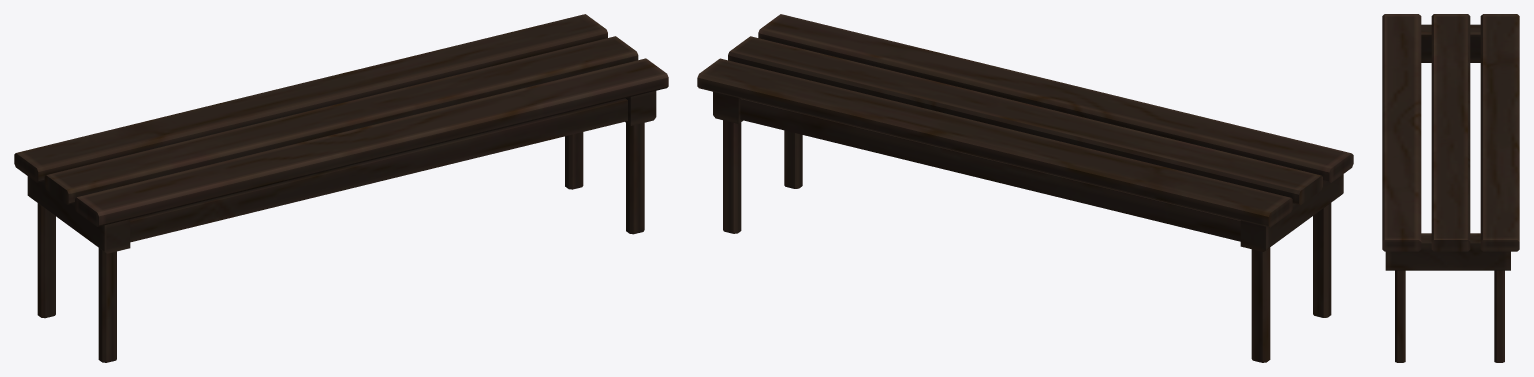
File: ChairLong.FBX
The picture shows the model from 3 angles, left to right: view 1: azimuth 30°, elevation 25°; view 2: azimuth 150°, elevation 25°; view 3: azimuth 270°, elevation 25°; orthographic projection. The views are drawn at different scales.
Visible parts, largest first — view 1: ChairLong; view 2: ChairLong; view 3: ChairLong.
Part boxes in pixels (x1,y1,x2,y2): ChairLong: (14,14,668,362); ChairLong: (697,14,1353,362); ChairLong: (1382,14,1519,362).
Size of the model in its own units: 3.66 by 0.9737 by 0.9402.
